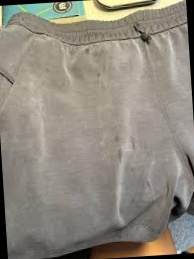oil: (125, 133, 139, 151), (112, 149, 124, 165), (93, 66, 106, 80), (84, 46, 95, 54), (109, 131, 118, 140)
